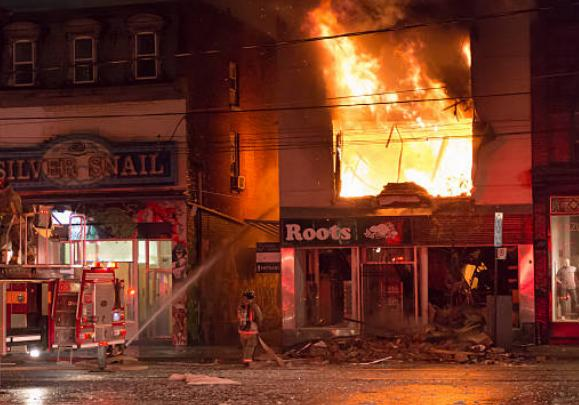fire: (287, 4, 486, 218)
